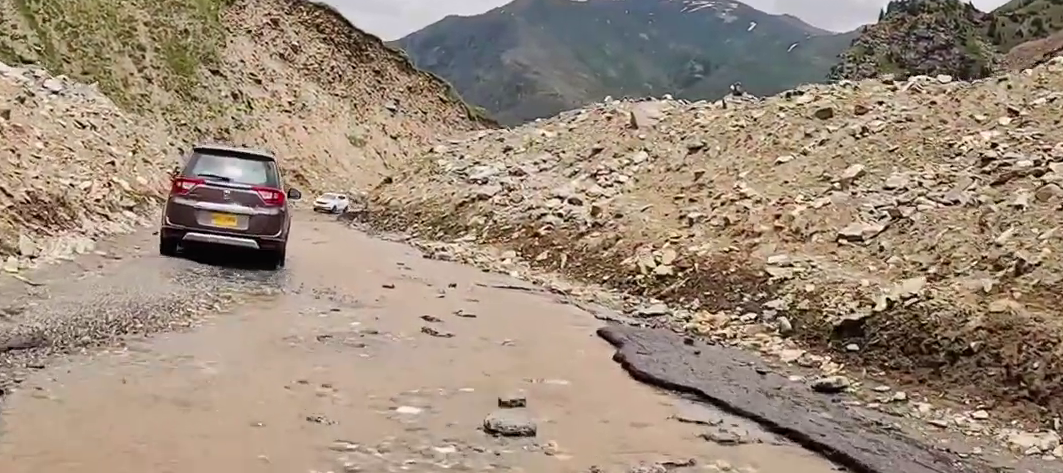unexpected: (328, 116, 726, 380)
